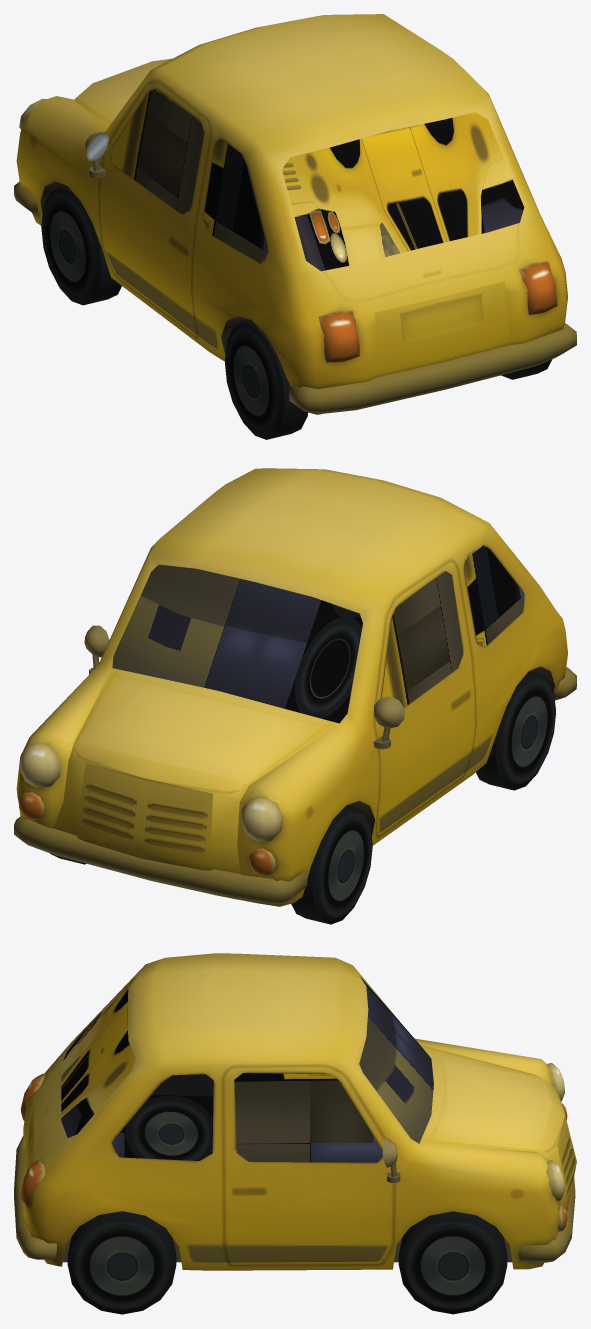
The model's file is car_yellow.glb.
The picture shows the model from 3 angles, top to bottom: view 1: azimuth 30°, elevation 25°; view 2: azimuth 150°, elevation 25°; view 3: azimuth 270°, elevation 25°; orthographic projection. The views are drawn at different scales.
Parts seen in each view (by area): view 1: car002, car00b002, car00l006, car00l005; view 2: car002, car00b002, car00l005, car00l006; view 3: car002, car00b002, Object152, Object153.
Part boxes in pixels (box(x1,y1,x2,y2)): car002: box(14, 14, 576, 414); car00b002: box(110, 89, 524, 271); car00l006: box(225, 320, 307, 439); car00l005: box(41, 186, 121, 305); car002: box(14, 468, 576, 906); car00b002: box(112, 545, 524, 723); car00l005: box(291, 805, 372, 924); car00l006: box(476, 671, 555, 790); car002: box(14, 953, 576, 1270); car00b002: box(61, 976, 433, 1162); Object152: box(67, 1211, 176, 1314); Object153: box(398, 1211, 507, 1314).
Bounding box in the file's own units: 2.12 × 1.84 × 3.6.
Materials: 3 (3 with a texture image).
